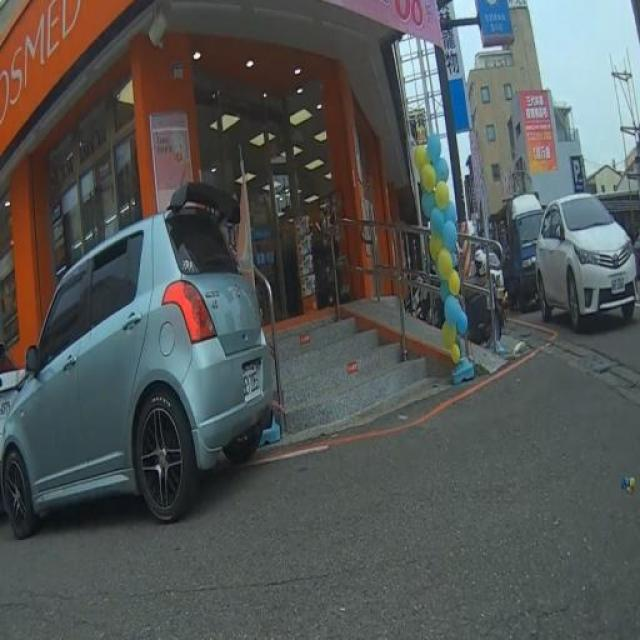Legalparking: (0, 191, 275, 559), (494, 186, 640, 340)
